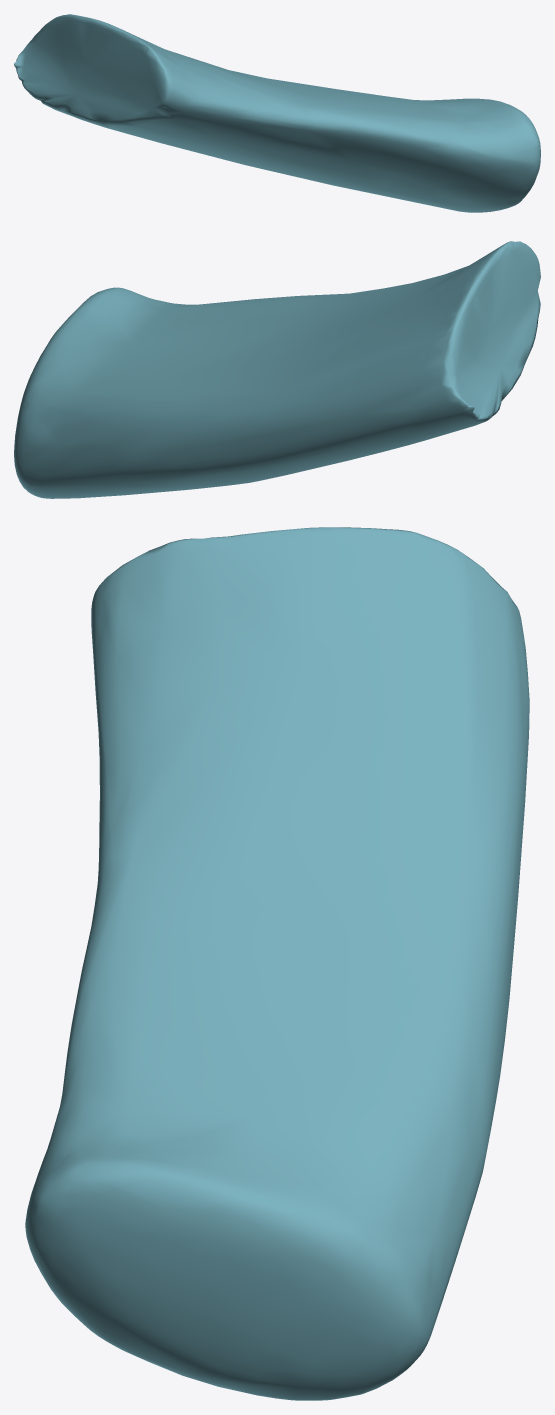
3 renders of one model, top to bottom at view 1: azimuth 30°, elevation 25°; view 2: azimuth 150°, elevation 25°; view 3: azimuth 270°, elevation 25°, orthographic. The views are drawn at different scales.
Parts seen in each view (by area): view 1: 右侧第三肋软骨; view 2: 右侧第三肋软骨; view 3: 右侧第三肋软骨.
Boxes of the visible parts, x1,y1,x2,y2 form: 右侧第三肋软骨: (14,14,540,212); 右侧第三肋软骨: (14,241,540,498); 右侧第三肋软骨: (25,527,529,1400).
Size of the model in its own units: 0.055 by 0.0329 by 0.0285.
